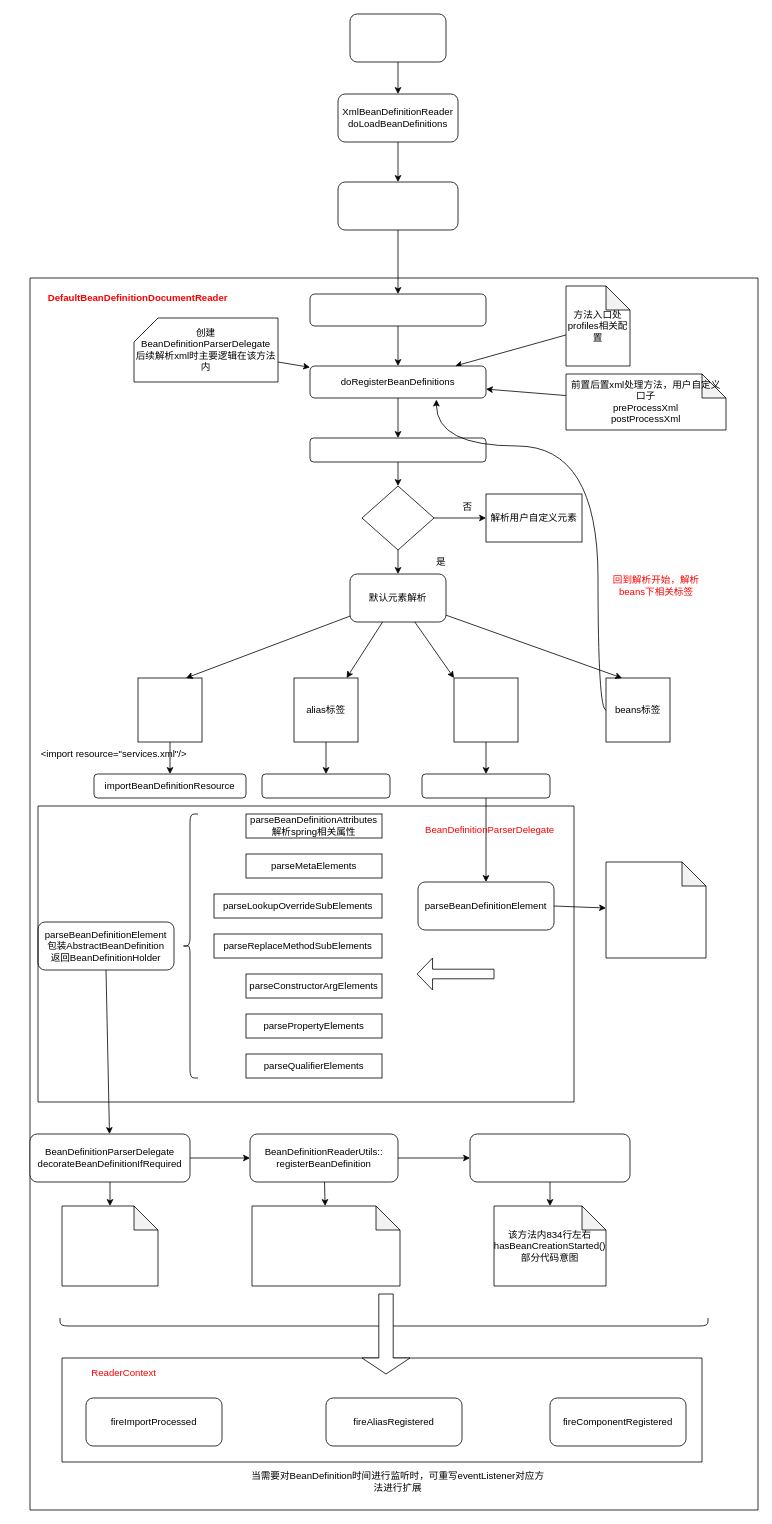
Some shapes in this 772 by 1524 pixel diagram are drawn without their labels. Each missing label, with the centre of its shape:
"bean标签" belongs at point (485, 709).
"DefaultListableBeanFactory registerBeanDefinition" belongs at point (549, 1157).
"import标签" belongs at point (169, 709).
"parseBeanDefinitions" belongs at point (397, 449).
"processAliasRegistration" belongs at point (325, 785).
"processBeanDefinition" belongs at point (485, 785).
"registerBeanDefinitions" belongs at point (397, 309).
"XmlBeanDefinitionReader registerBeanDefinitions" belongs at point (397, 205).
"入口类：XmlBeanFactory::new loadBeanDefinitions" belongs at point (397, 37).
"对用户自定义属性 或者子元素进行处理" belongs at point (109, 1245).
"将读取的BeanDefinition 放入缓存中" belongs at point (325, 1245).
"是否为默认namespace" belongs at point (397, 517).
"生成AbstractBeanDefinition对象，将<bean/>标签相关配置到该对象内。" belongs at point (655, 909).
